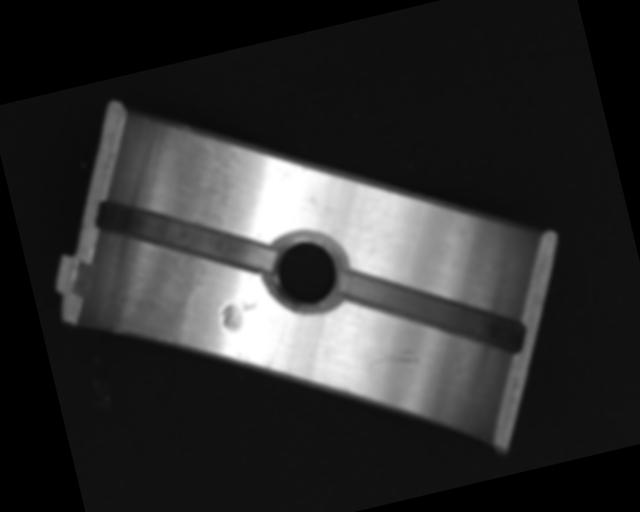bruise: (217, 297, 263, 335)
gap: (337, 235, 525, 389), (92, 167, 278, 307)
hole: (261, 224, 351, 322)
nick: (362, 343, 421, 376)
